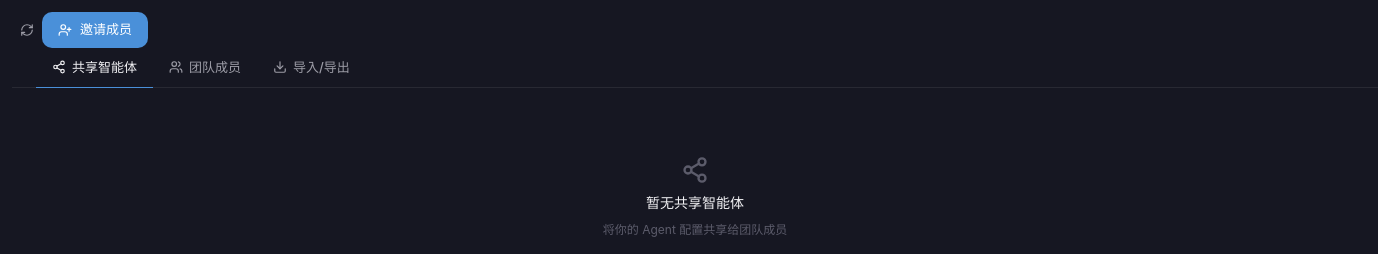
Test case: TeamView › clears the old error banner after removing a member succeeds following a previous failure
The width and height of the screenshot is (1378, 254).
Click the button "团队成员": (205, 68) [153,48,257,88]
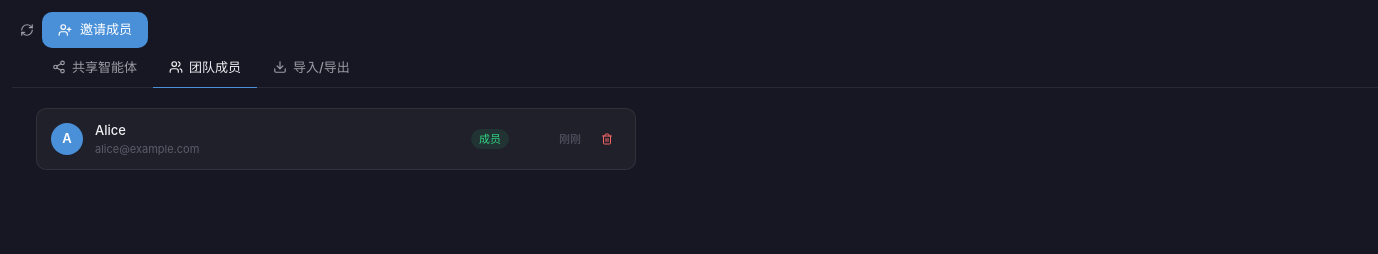
expect the button without text next to "刚刚" is shown: met
Click the button without text next to "刚刚": (607, 139) [593,129,621,149]
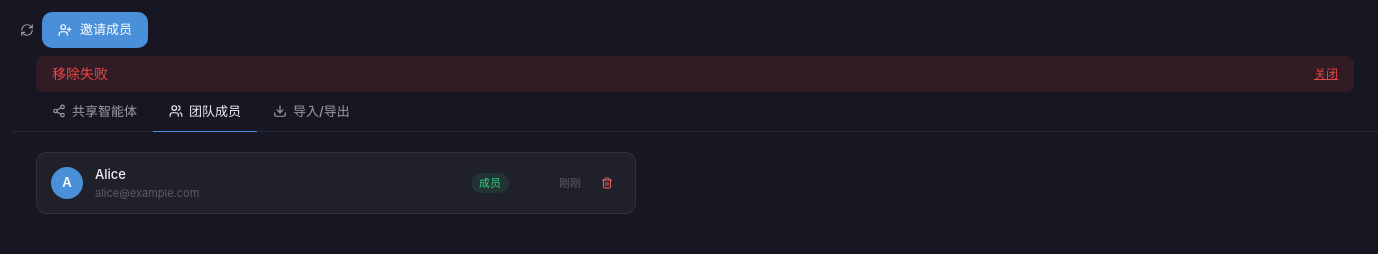
expect the text "移除失败" is shown: met, box [52,64,108,84]
Click the button without text next to "刚刚": (607, 183) [593,173,621,193]
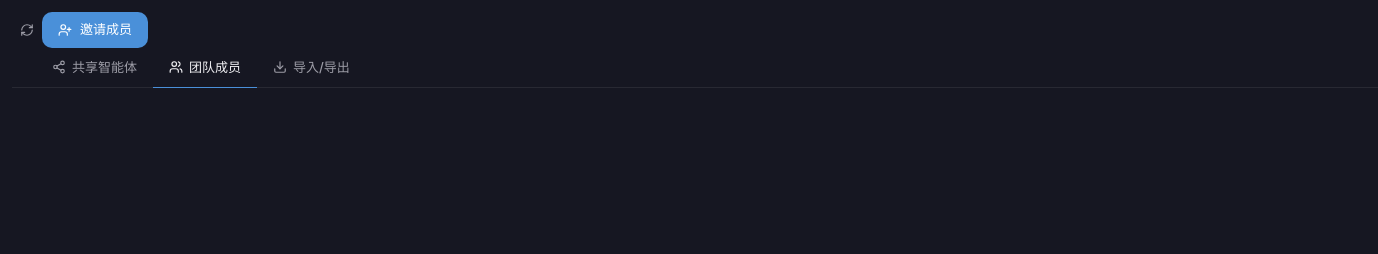
expect the text "移除失败" is gone: met
expect the text "Alice" is gone: met
